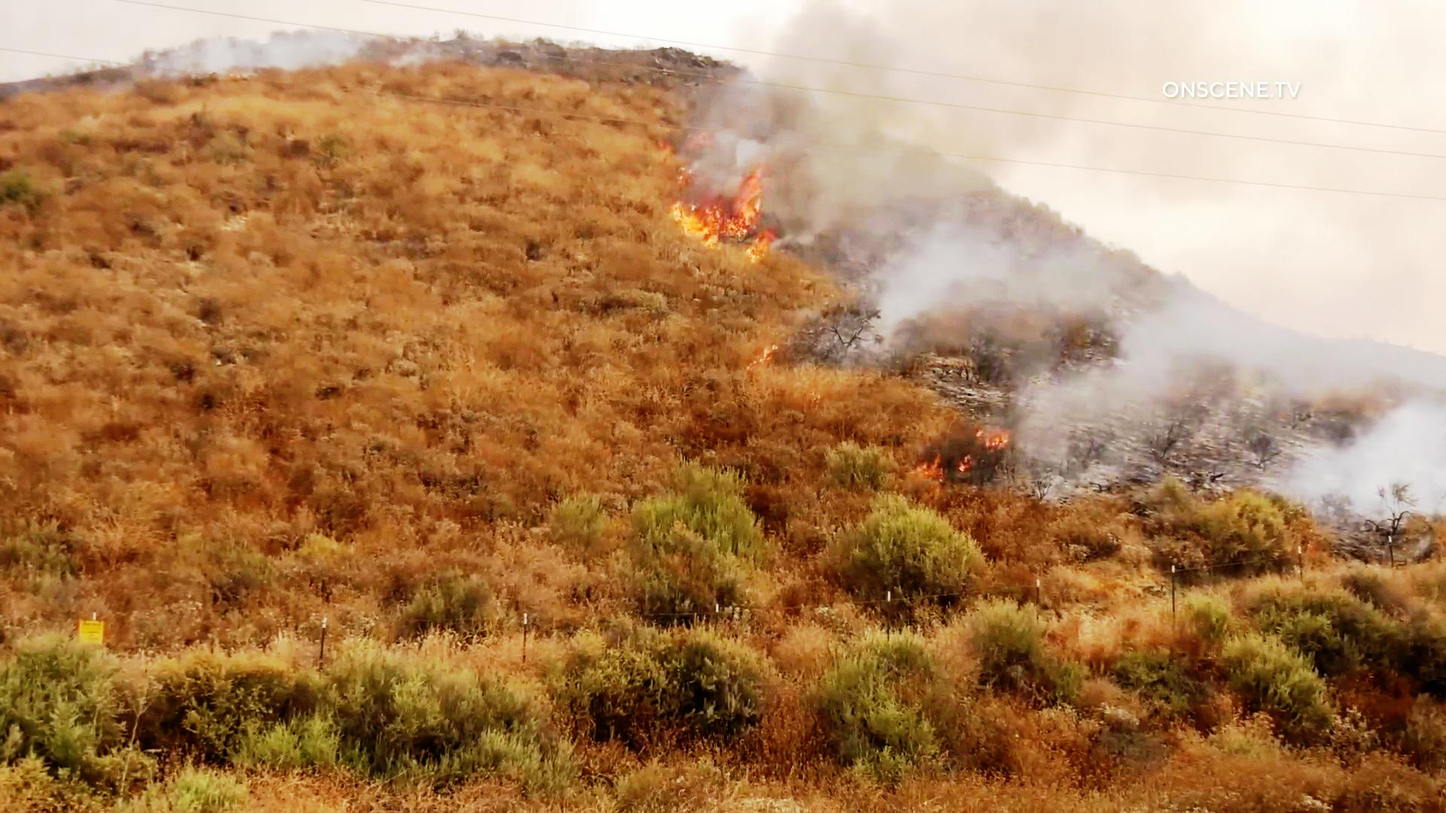fire: (667, 168, 793, 290)
smoke: (750, 0, 1023, 177)
